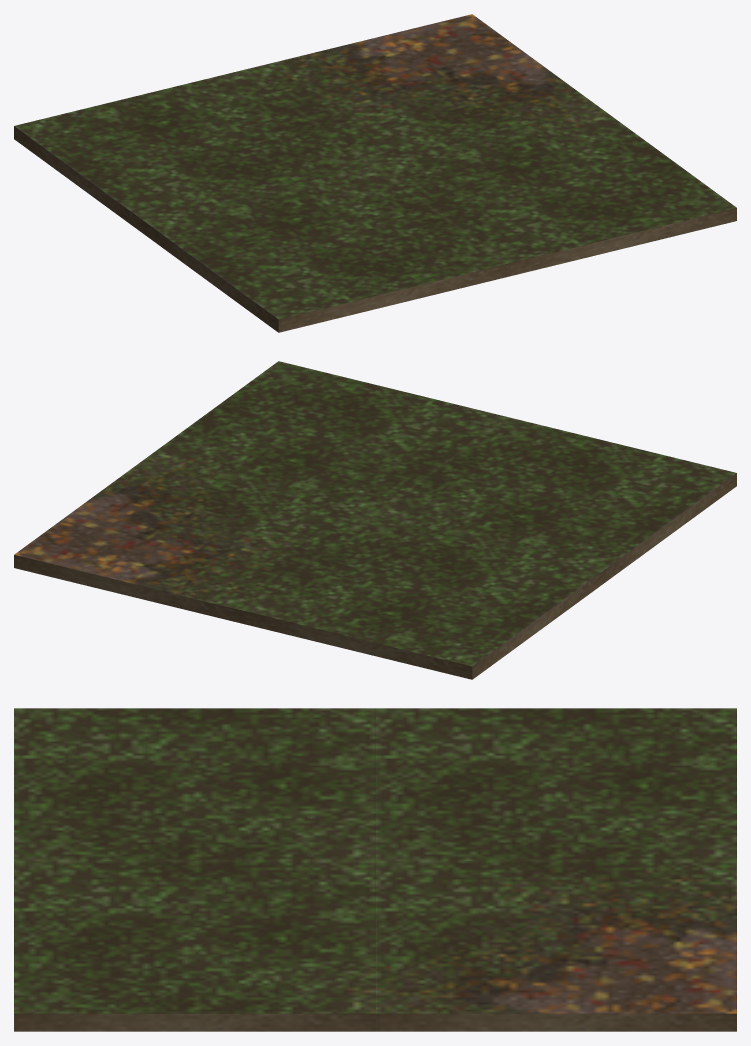
File: edge_corner_in.fbx
3 renders of one model, top to bottom at view 1: azimuth 30°, elevation 25°; view 2: azimuth 150°, elevation 25°; view 3: azimuth 270°, elevation 25°, orthographic. The views are drawn at different scales.
Parts seen in each view (by area): view 1: edge_corner_in; view 2: edge_corner_in; view 3: edge_corner_in.
Part boxes in pixels (x1,y1,x2,y2): edge_corner_in: [14, 14, 736, 332]; edge_corner_in: [14, 361, 736, 679]; edge_corner_in: [14, 708, 736, 1031].
Bounding box in the file's own units: 4 × 0.11 × 4.
Materials: 1 (1 with a texture image).
